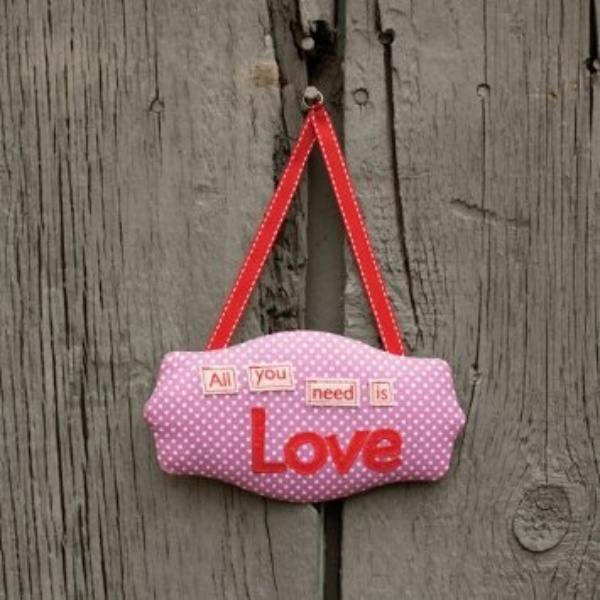text: (257, 406, 272, 475), (273, 406, 288, 475), (289, 406, 304, 475), (305, 406, 320, 475), (321, 406, 336, 475), (337, 406, 352, 475), (353, 406, 368, 475), (369, 406, 384, 475), (385, 406, 400, 475), (251, 406, 256, 475), (257, 366, 272, 388), (273, 366, 288, 388), (321, 384, 336, 403), (337, 384, 352, 403), (209, 371, 224, 389), (374, 384, 384, 403), (311, 384, 320, 403), (225, 371, 234, 389), (401, 406, 403, 475), (385, 384, 391, 403), (252, 366, 256, 388), (353, 384, 357, 403), (289, 366, 290, 388), (207, 371, 208, 389)
